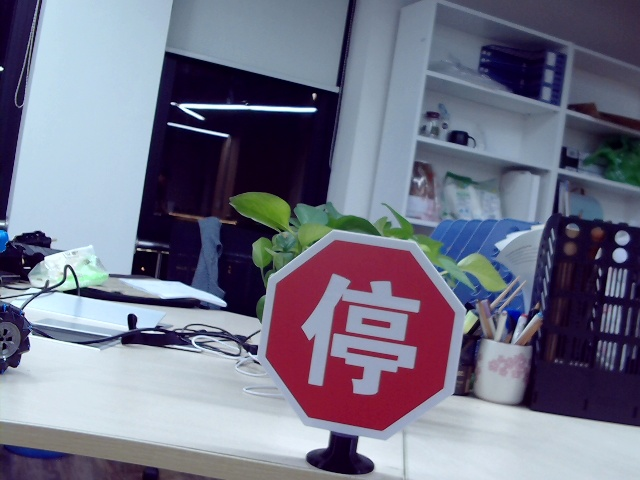stop: (297, 273, 419, 395)
